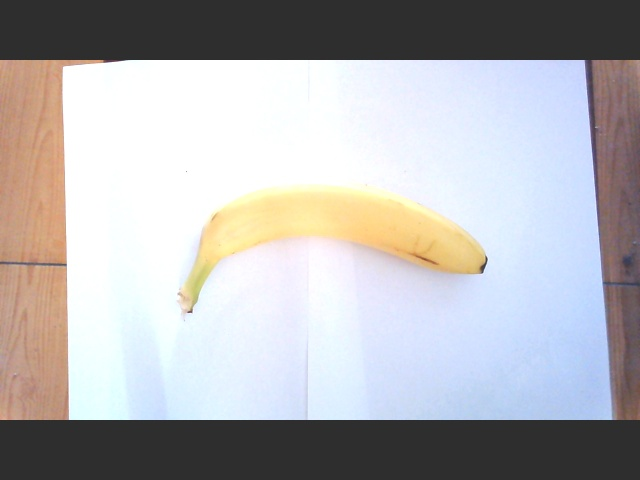banana: (188, 176, 494, 286)
